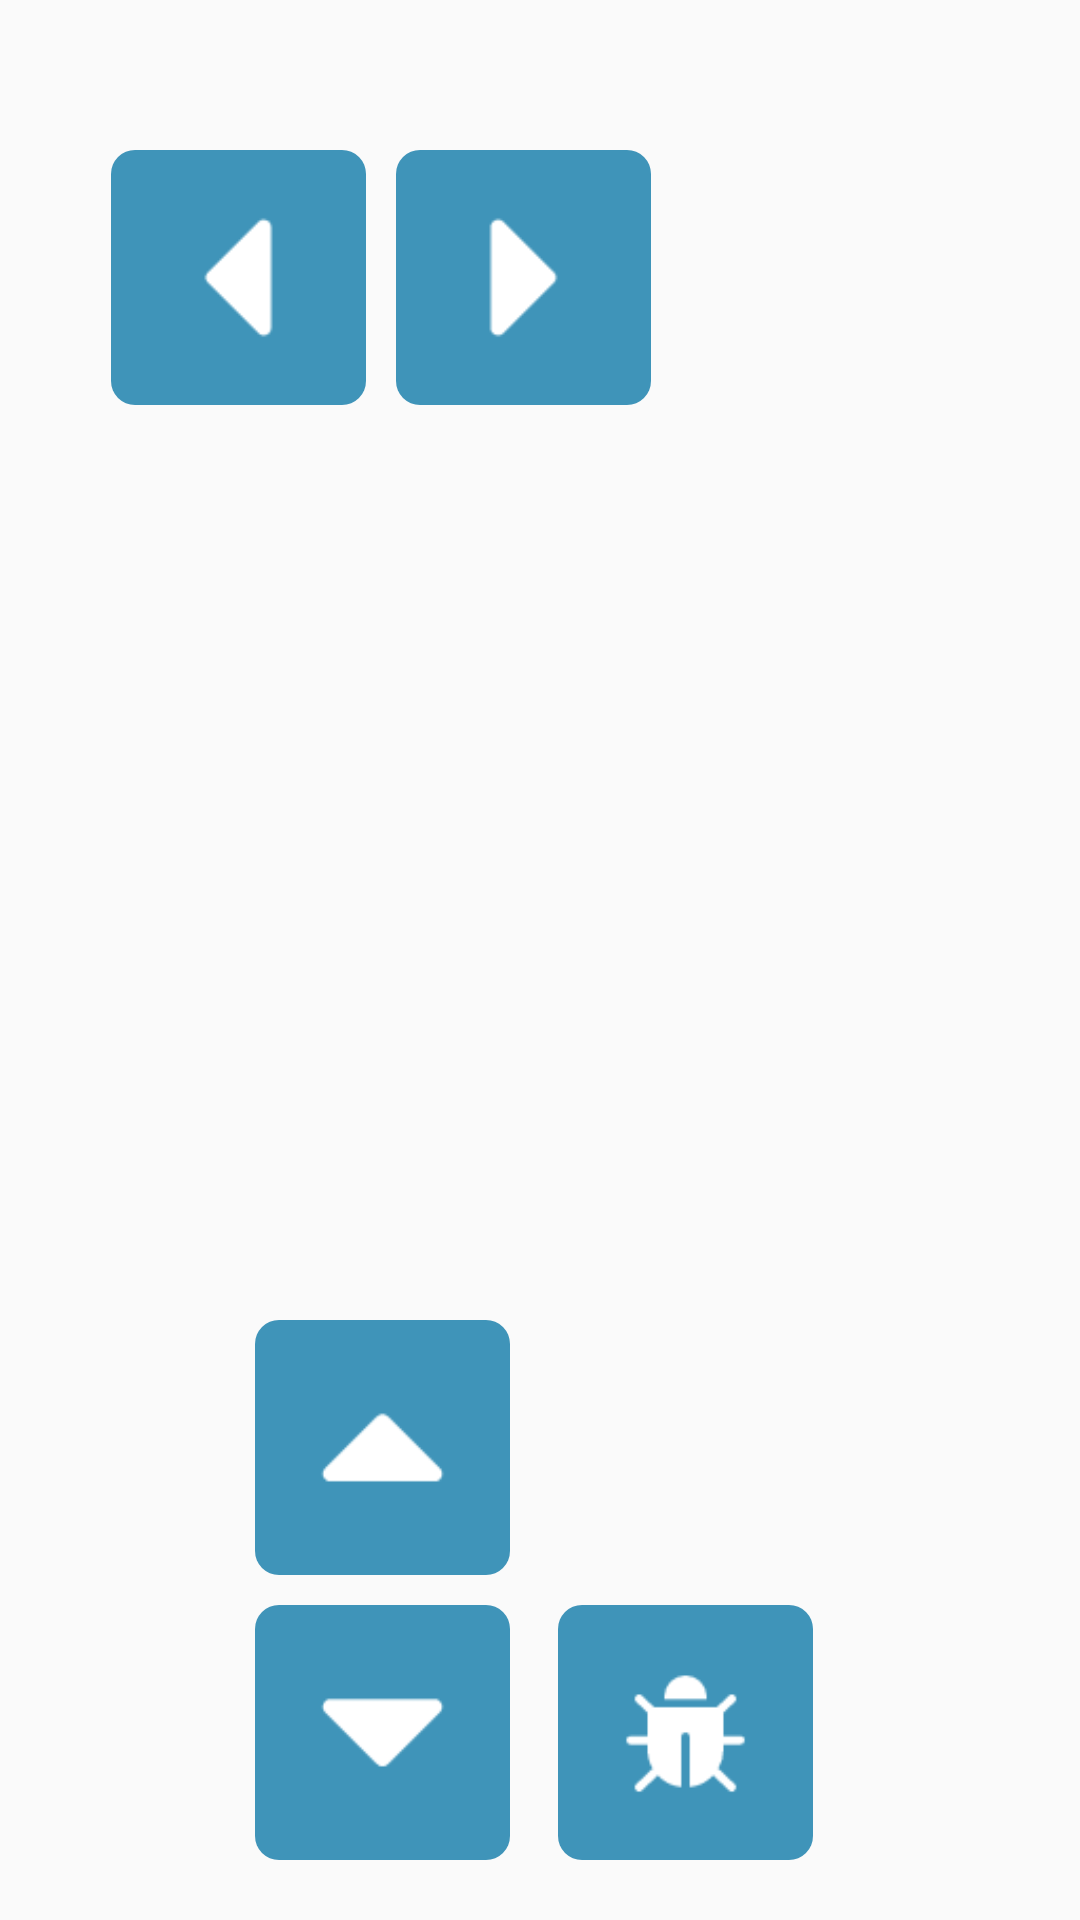

Screen size 1080*1920. Icon name, then its box in pixels as (x1, y1, x2, y2):
bug: (626, 1675, 745, 1792)
down: (321, 1698, 444, 1767)
left: (204, 218, 273, 337)
right: (489, 218, 558, 337)
